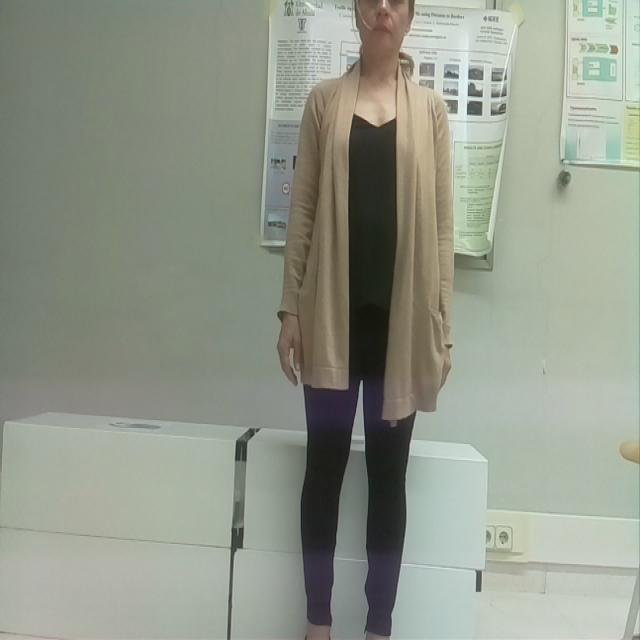person: (272, 0, 456, 640)
